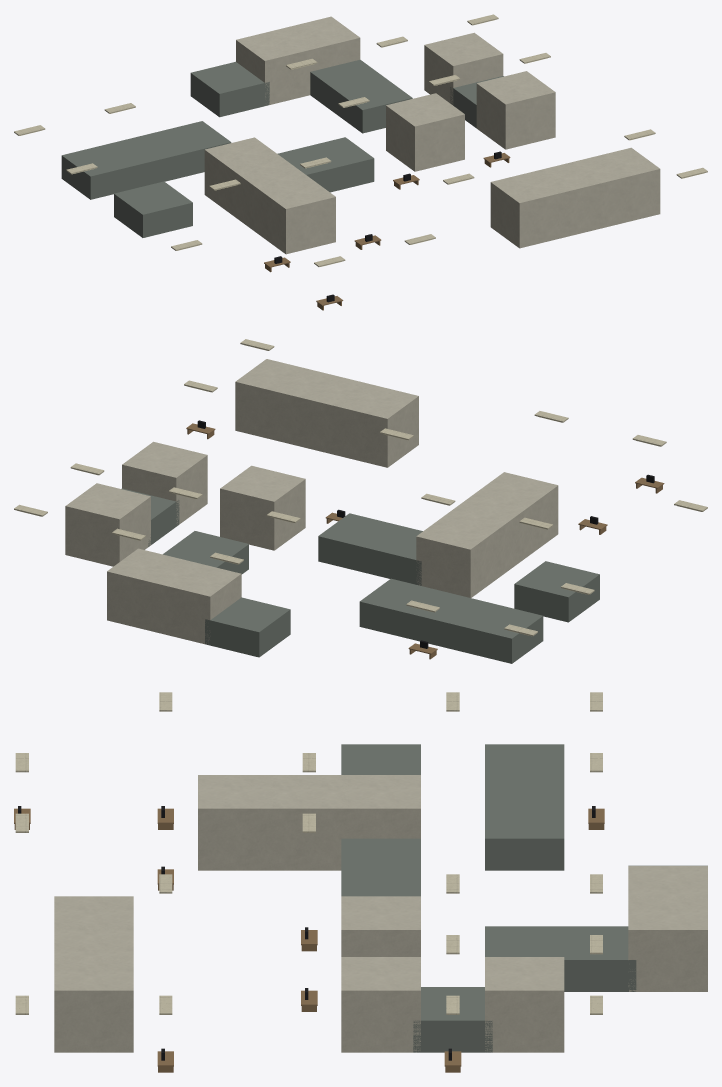
File: level4_walls_0_2.obj
3 views of the same model, one above another, from view 1: azimuth 30°, elevation 25°; view 2: azimuth 150°, elevation 25°; view 3: azimuth 270°, elevation 25° (orthographic). The views are drawn at different scales.
Size of the model in its own units: 34.4 by 3.1 by 31.42.
Materials: 6 (2 with a texture image).
